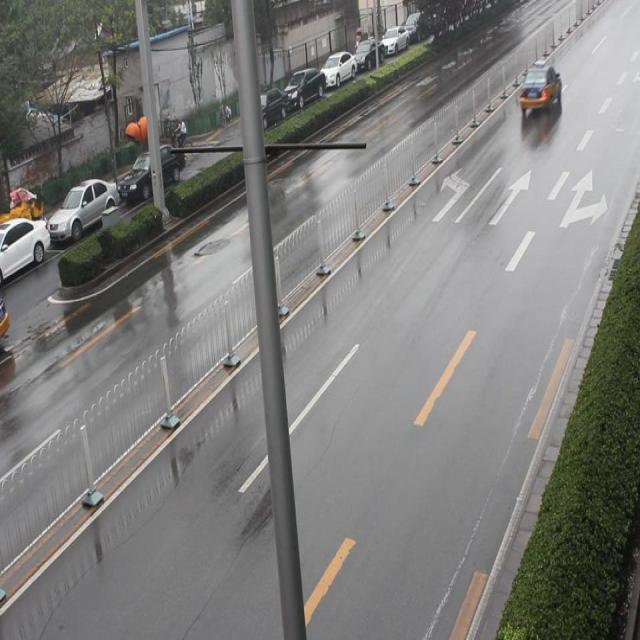car: (518, 57, 561, 124)
